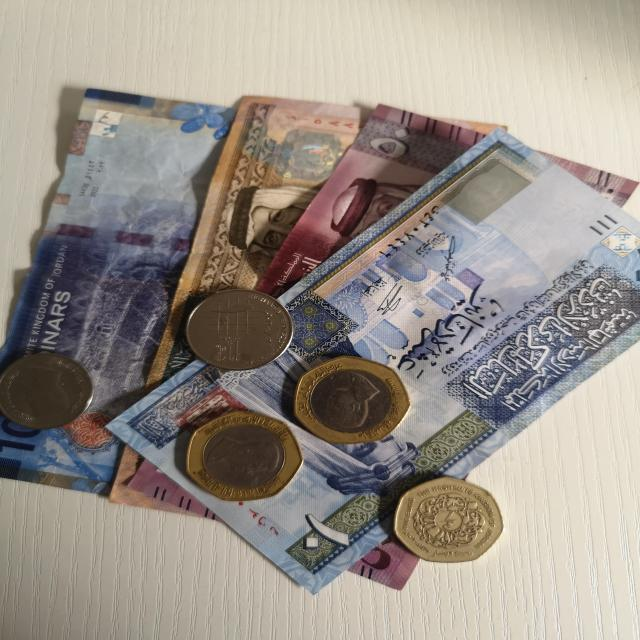10-coins: (186, 289, 293, 371)
10-dinar: (110, 120, 640, 598), (0, 86, 251, 508)
25-coins: (394, 476, 504, 563)
5-coins: (0, 353, 93, 428)
50-coins: (184, 409, 304, 502), (293, 355, 411, 444)
